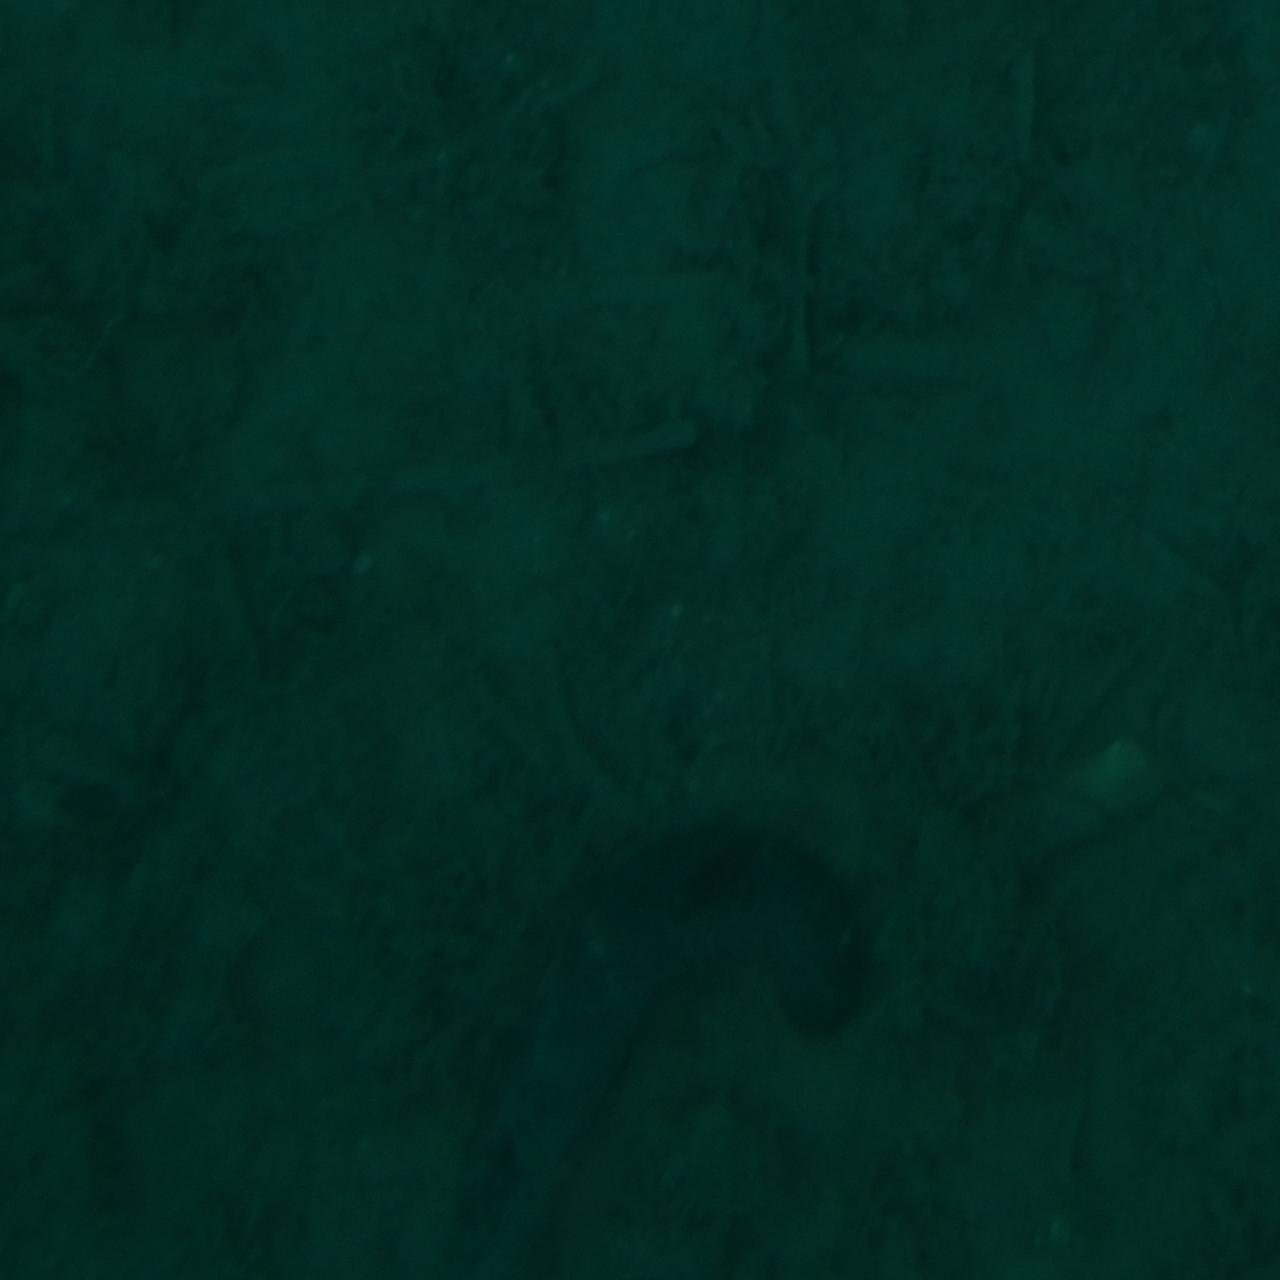Holothuria tubulosa: (402, 815, 878, 1280)
